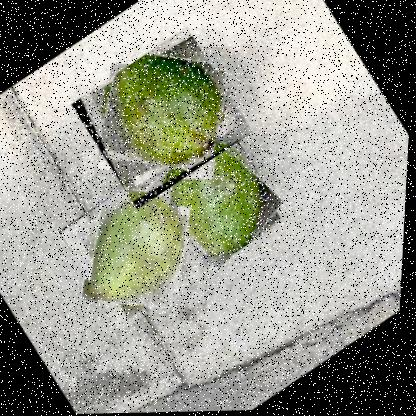guava: (65, 25, 258, 212), (51, 167, 221, 335), (139, 127, 292, 279)
